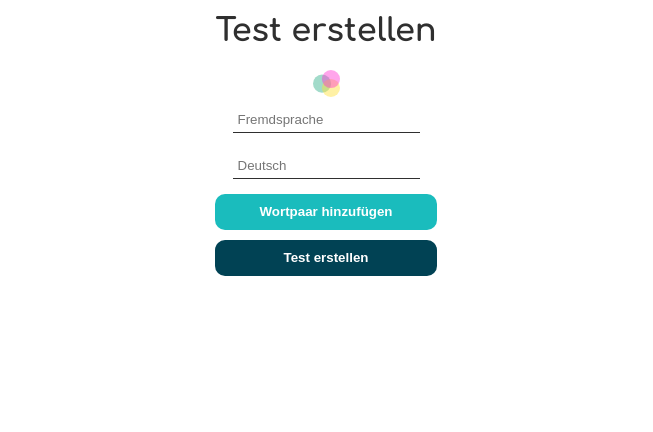
Test case: TestCreator › Removes wordpair by clicking delete
Type "the candle" into the field named "foreign" at (327, 120), box [233,107,420,133]
Type "die Kerze" into the field named "native" at (327, 166), box [233,153,420,179]
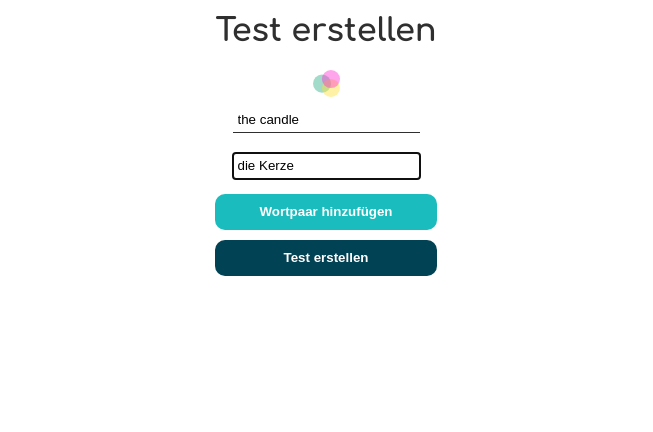
Click the button "Wortpaar hinzufügen" at (326, 212), box [215,194,436,230]
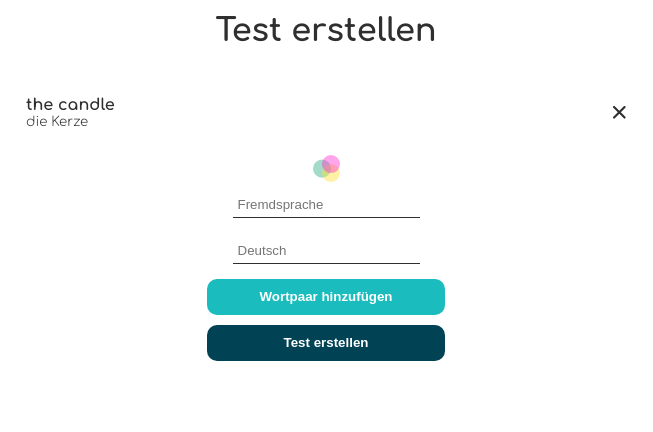
Type "the tea" into the field named "foreign" at (327, 205), box [233,192,420,218]
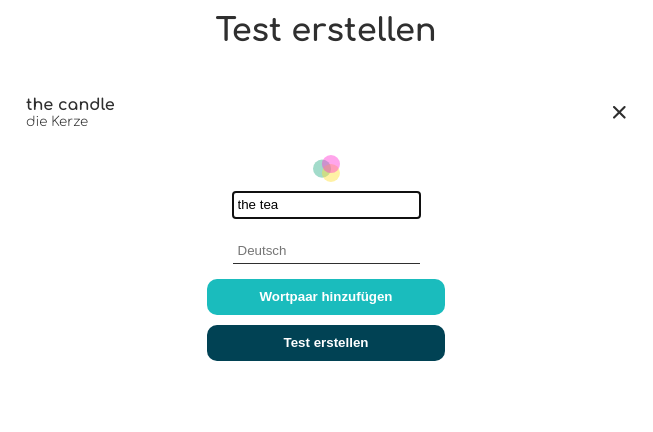
Type "der Tee" into the field named "native" at (327, 251), box [233,238,420,264]
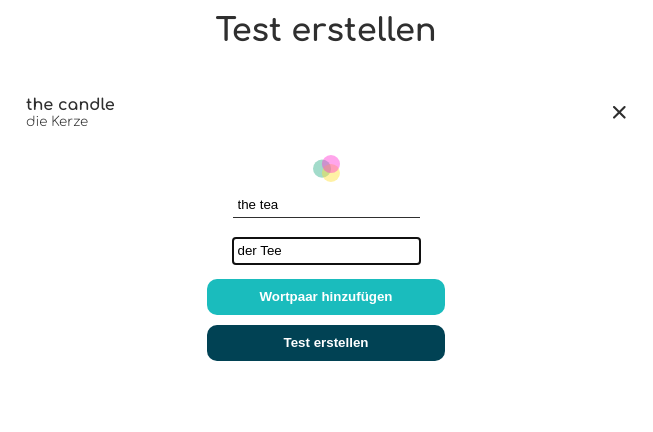
Click the button "Wortpaar hinzufügen" at (326, 297), box [207,279,445,315]
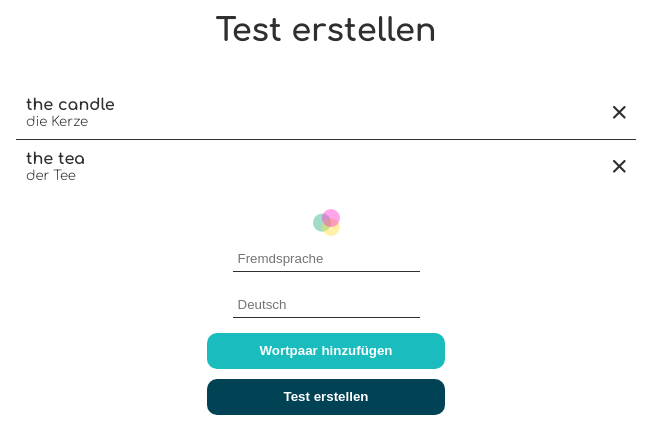
Click the icon in the row of "the candle" at (620, 113), box [613,106,626,119]
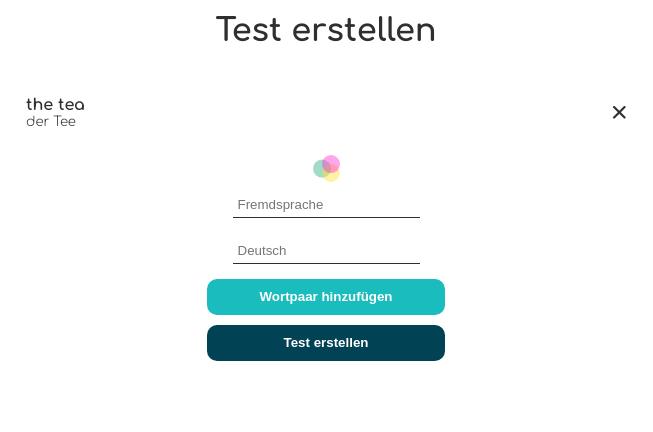
Check: the text "the candle" is gone
